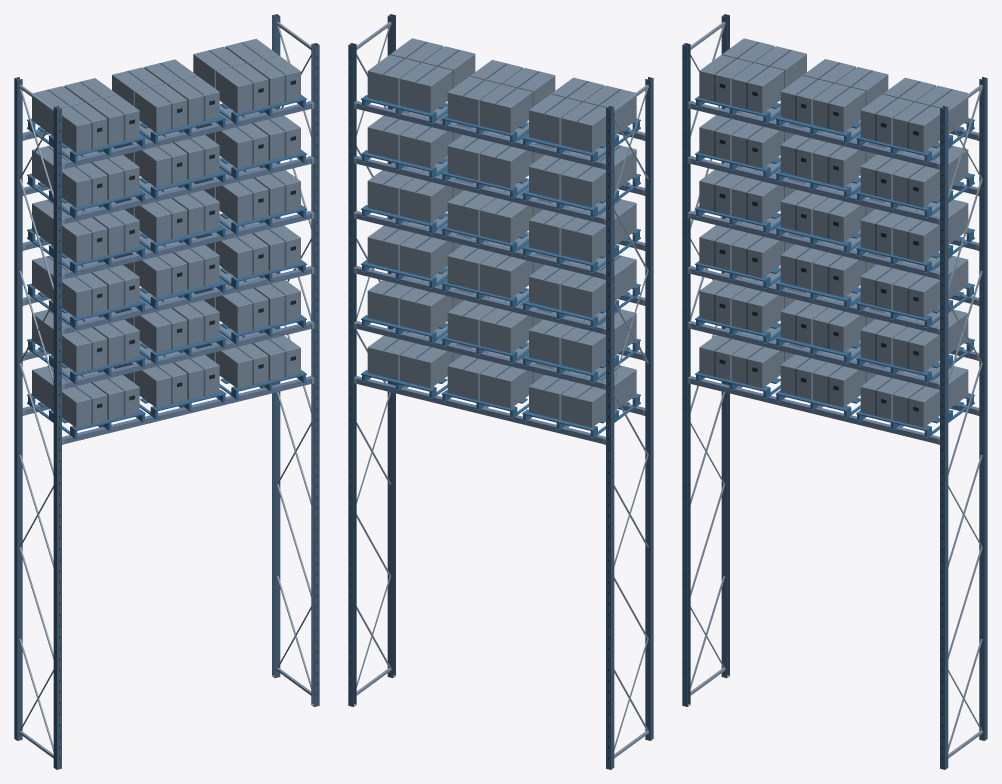
Rendered from SM_GHS_V2Rack_B_Pass.fbx.
3 views of the same model, side by side, from view 1: azimuth 30°, elevation 25°; view 2: azimuth 150°, elevation 25°; view 3: azimuth 330°, elevation 25° (orthographic).
Visible parts, largest first — view 1: SM_GHS_V2Rack_B_Pass; view 2: SM_GHS_V2Rack_B_Pass; view 3: SM_GHS_V2Rack_B_Pass.
Boxes of the visible parts, <box> form: SM_GHS_V2Rack_B_Pass: <box>14,14,319,769</box>; SM_GHS_V2Rack_B_Pass: <box>348,14,653,769</box>; SM_GHS_V2Rack_B_Pass: <box>682,14,987,769</box>.
Size of the model in its own units: 381 by 122 by 915.
